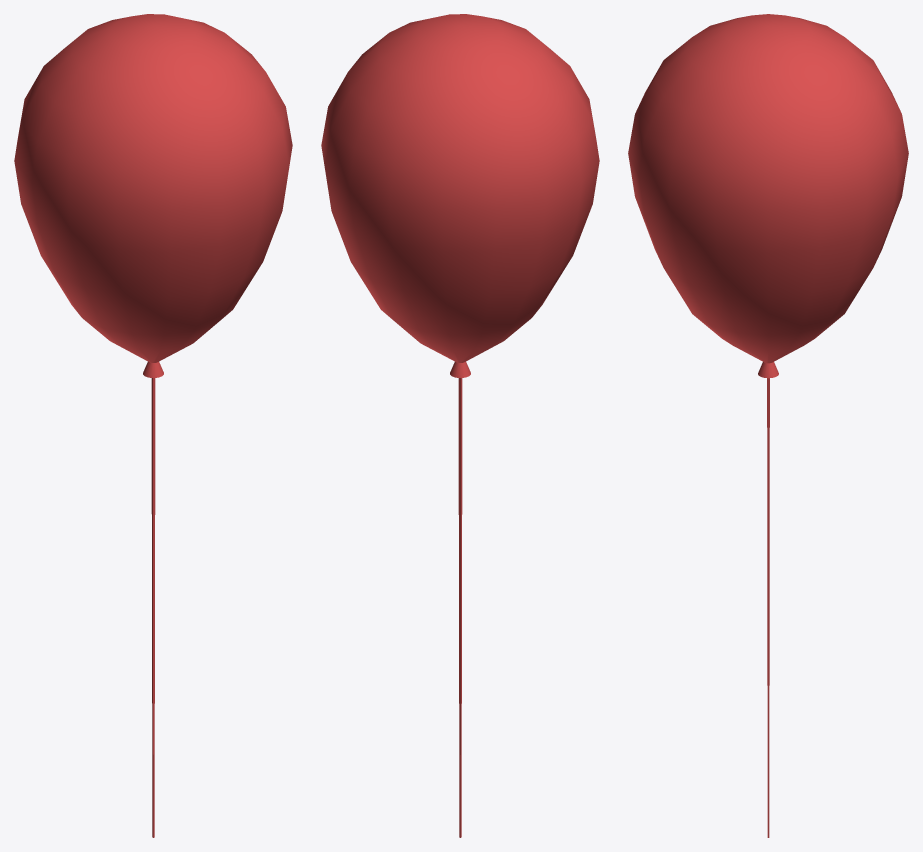
Rendered from Balloon.fbx.
The picture shows the model from 3 angles, left to right: view 1: azimuth 30°, elevation 25°; view 2: azimuth 150°, elevation 25°; view 3: azimuth 270°, elevation 25°; orthographic projection.
Visible parts, largest first — view 1: Balloon; view 2: Balloon; view 3: Balloon.
Part boxes in pixels (bbox=[...]): Balloon: bbox=[14, 14, 292, 837]; Balloon: bbox=[321, 14, 599, 837]; Balloon: bbox=[628, 14, 908, 837].
Bounding box in the file's own units: 156 × 498 × 156.
